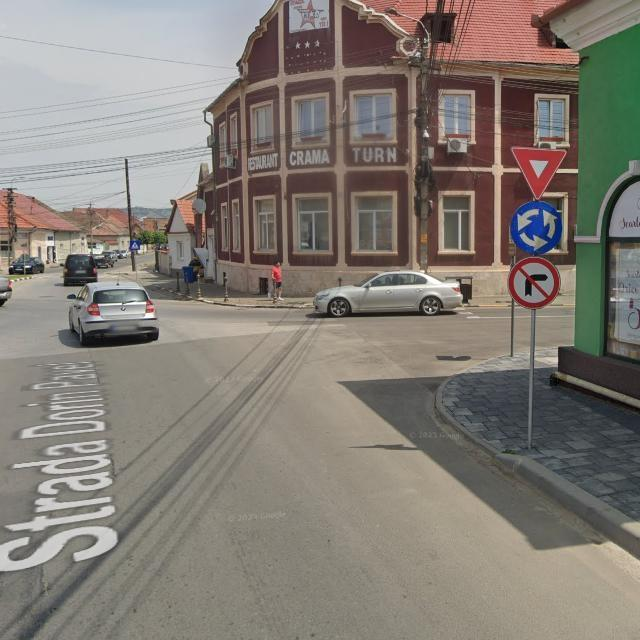info_crosswalk: (130, 241, 141, 251)
prio_give_way: (511, 147, 568, 201)
